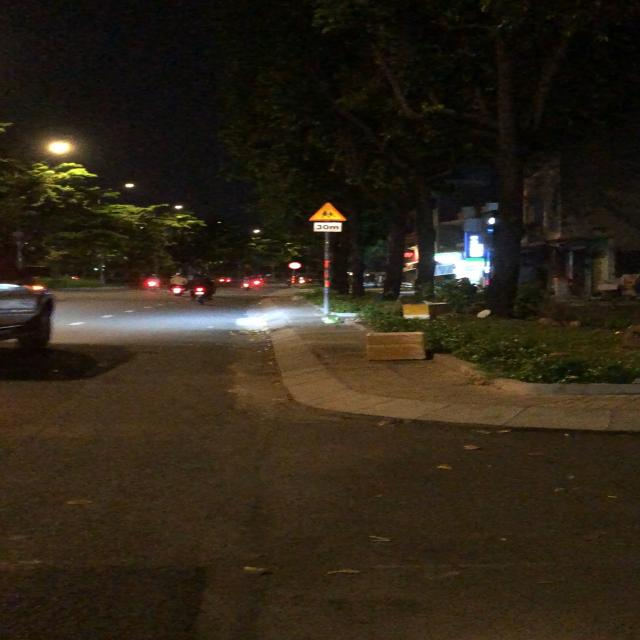Bien bao tre em: (304, 201, 348, 223)
